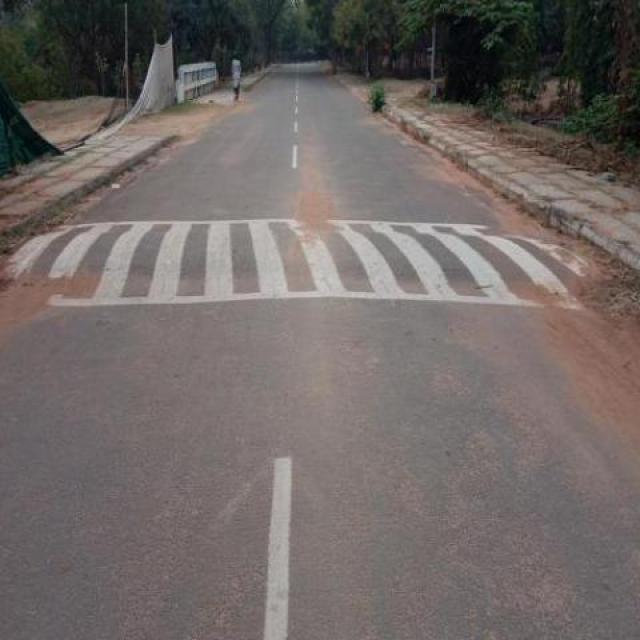Speed Bump: (12, 218, 626, 312)
